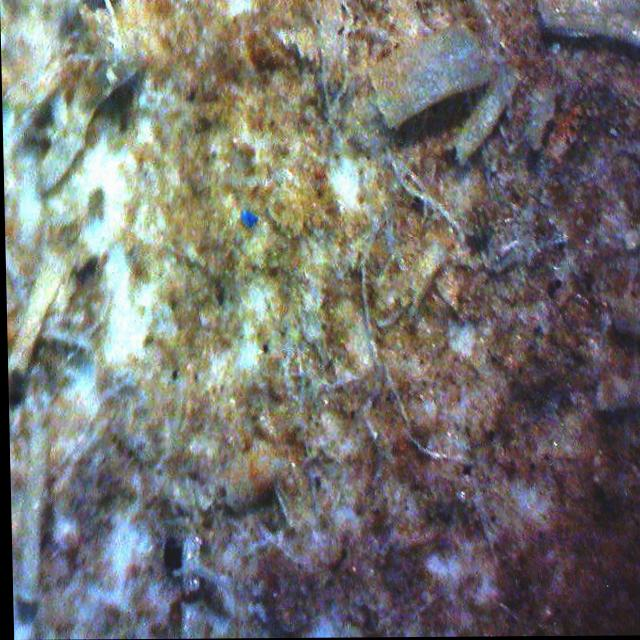microplastic: (237, 205, 259, 231)
